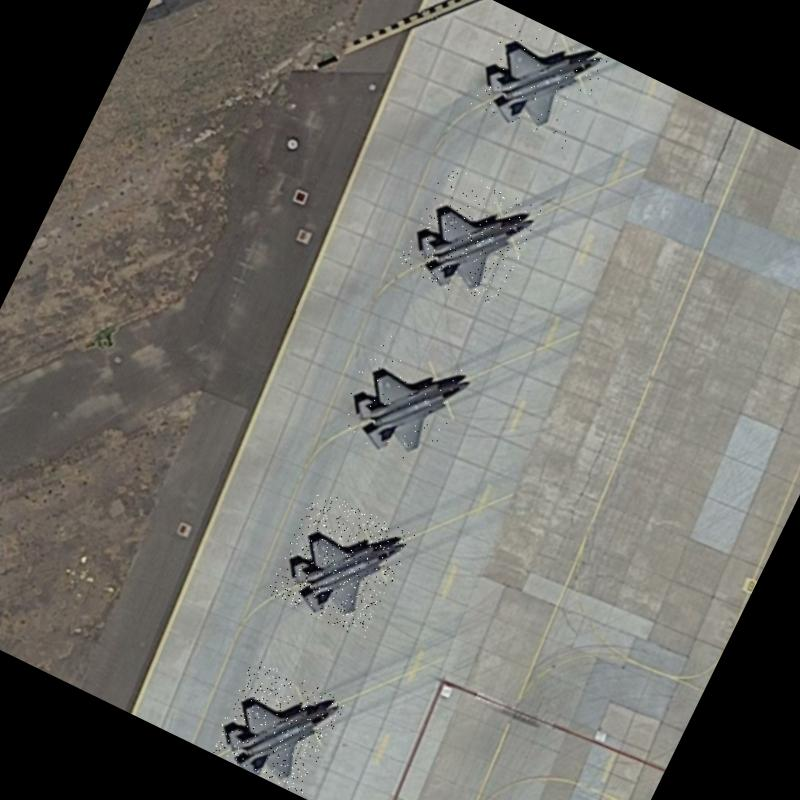A15: (265, 487, 414, 640), (396, 163, 542, 311), (330, 329, 473, 474), (208, 656, 347, 796), (465, 13, 606, 150)
